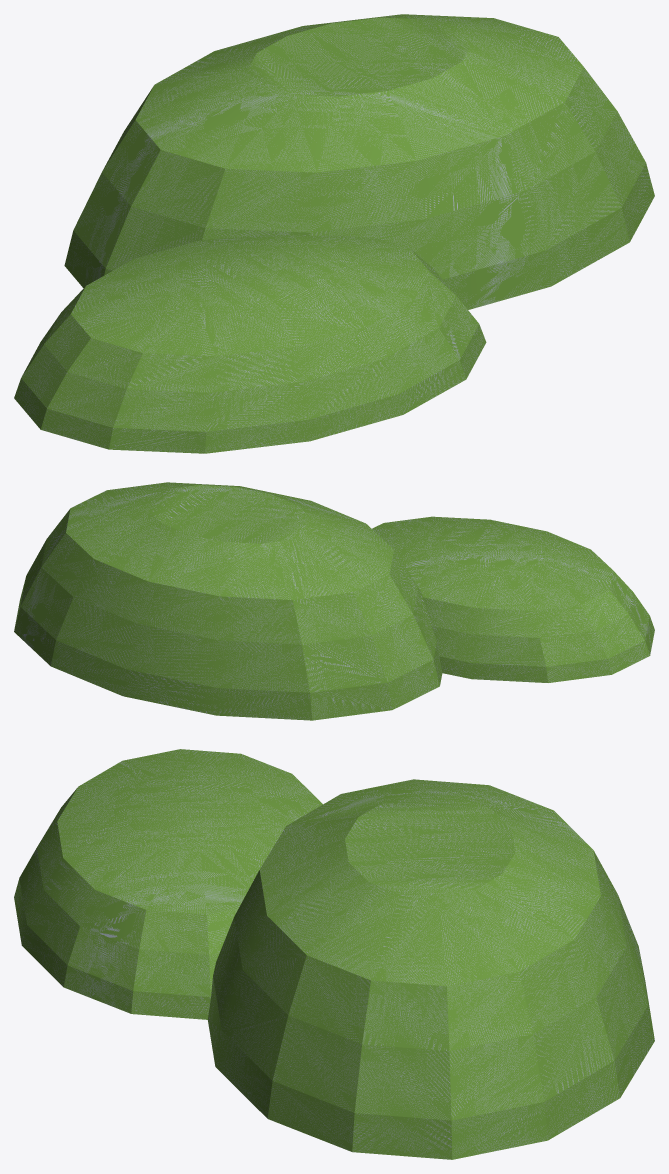
Rendered from Hills_01.fbx.
3 renders of one model, top to bottom at view 1: azimuth 30°, elevation 25°; view 2: azimuth 150°, elevation 25°; view 3: azimuth 270°, elevation 25°, orthographic. The views are drawn at different scales.
Visible parts, largest first — view 1: Model; view 2: Model; view 3: Model.
Part boxes in pixels (x1,y1,x2,y2): Model: [14, 14, 654, 453]; Model: [14, 482, 654, 720]; Model: [14, 749, 654, 1159].
Size of the model in its own units: 3970 by 921 by 3007.
